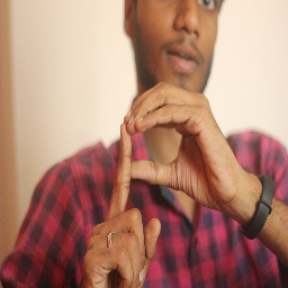P: (76, 80, 232, 278)
